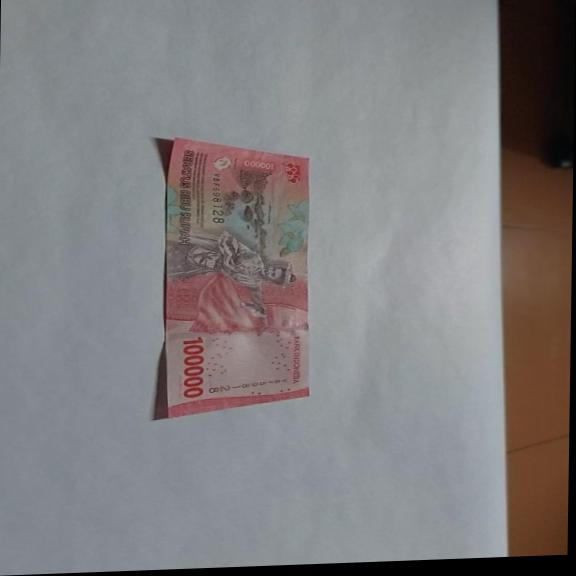Kertas: (151, 131, 314, 421), (179, 336, 208, 399)
